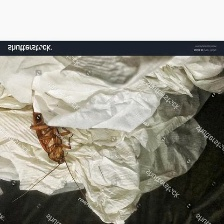tissue: (0, 55, 224, 223)
